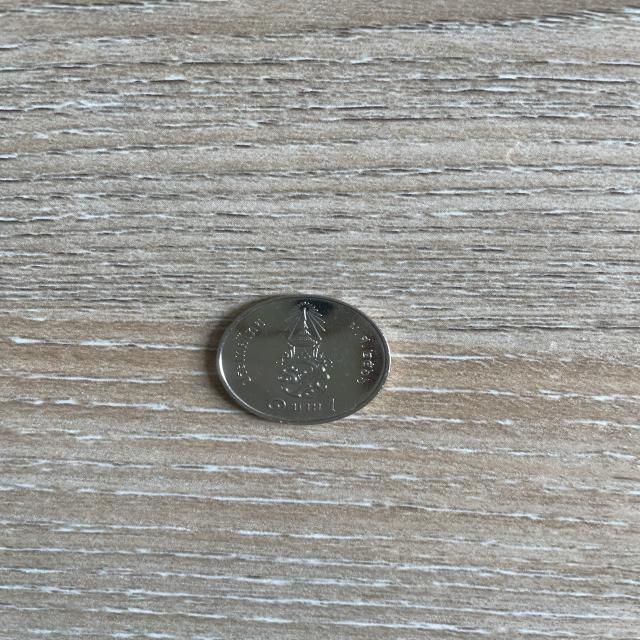1 Bath: (190, 286, 410, 440)
